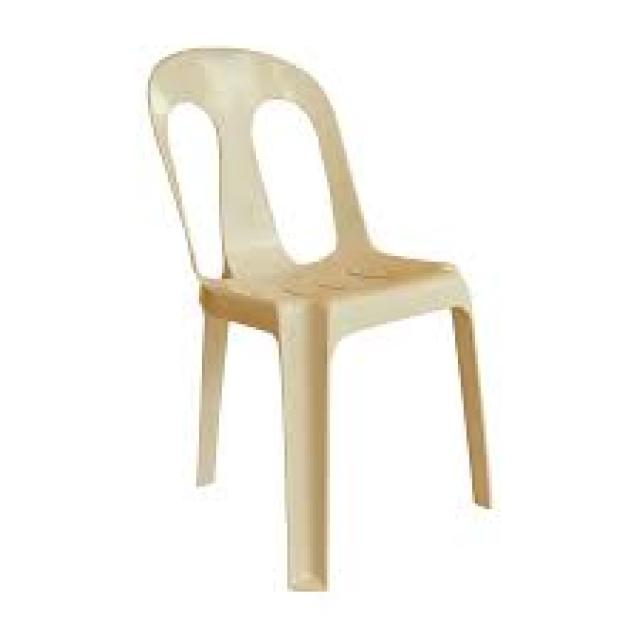chair: (77, 22, 532, 625)
